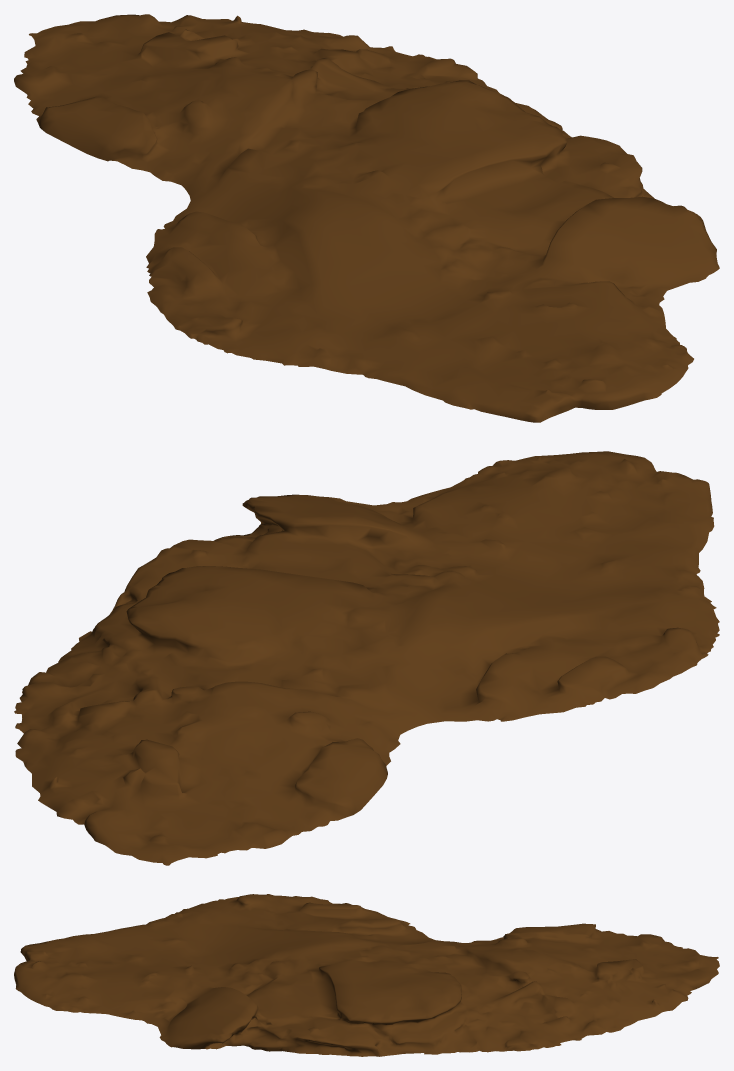
The model's file is MSH_Rocks_Flat_05.FBX.
3 renders of one model, top to bottom at view 1: azimuth 30°, elevation 25°; view 2: azimuth 150°, elevation 25°; view 3: azimuth 270°, elevation 25°, orthographic. The views are drawn at different scales.
Parts seen in each view (by area): view 1: MESH_LOD0; view 2: MESH_LOD0; view 3: MESH_LOD0.
Part boxes in pixels (x1,y1,x2,y2): MESH_LOD0: (14, 14, 719, 422); MESH_LOD0: (14, 451, 719, 865); MESH_LOD0: (14, 894, 719, 1056).
Size of what is drawn, in the model's own units: 144 by 13.52 by 264.
